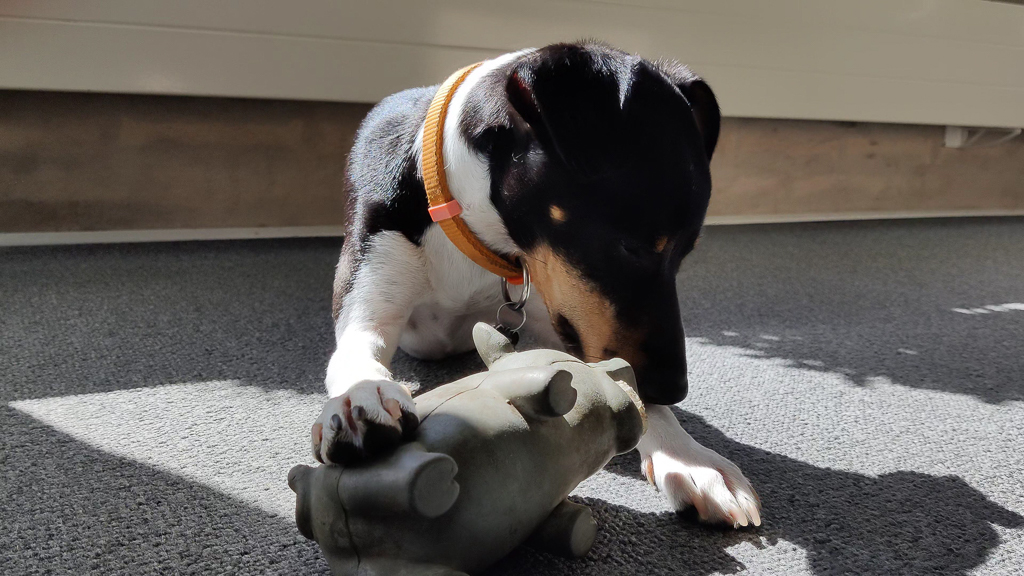Dog: (293, 29, 798, 546)
